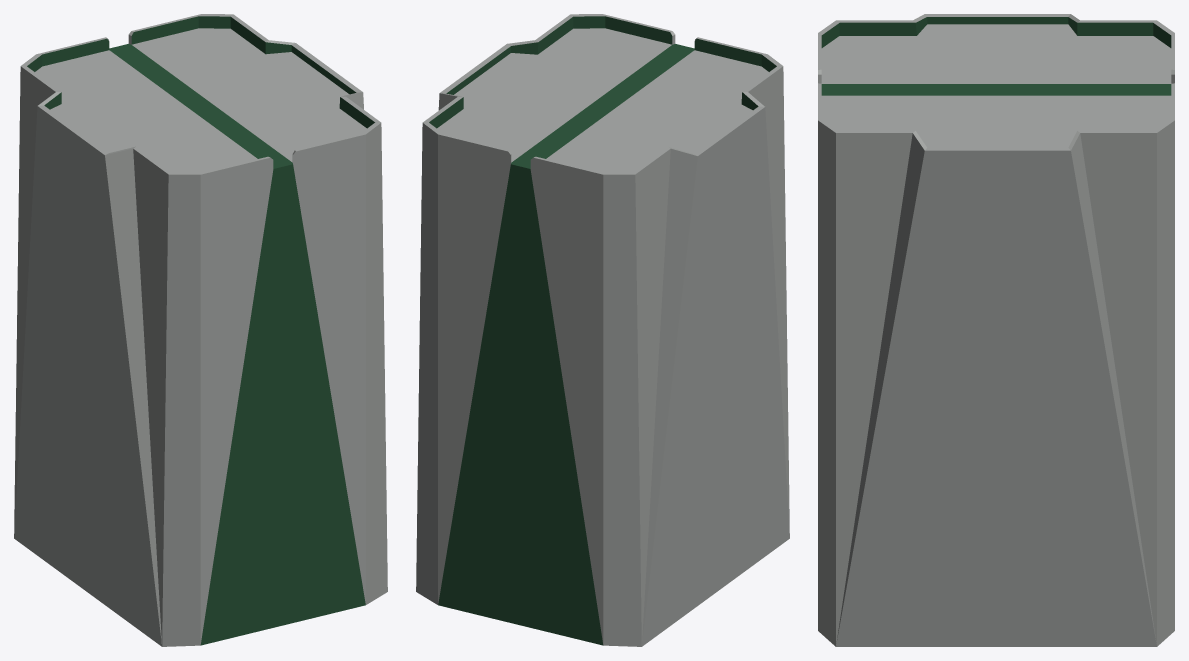
Rendered from Arena_standart_square.fbx.
3 views of the same model, side by side, from view 1: azimuth 30°, elevation 25°; view 2: azimuth 150°, elevation 25°; view 3: azimuth 270°, elevation 25° (orthographic). The views are drawn at different scales.
Parts seen in each view (by area): view 1: square; view 2: square; view 3: square.
Part boxes in pixels (bbox=[...]): square: bbox=[14, 14, 387, 646]; square: bbox=[416, 14, 789, 646]; square: bbox=[818, 14, 1174, 646].
Bounding box in the file's own units: 1741 × 3032 × 1920.
